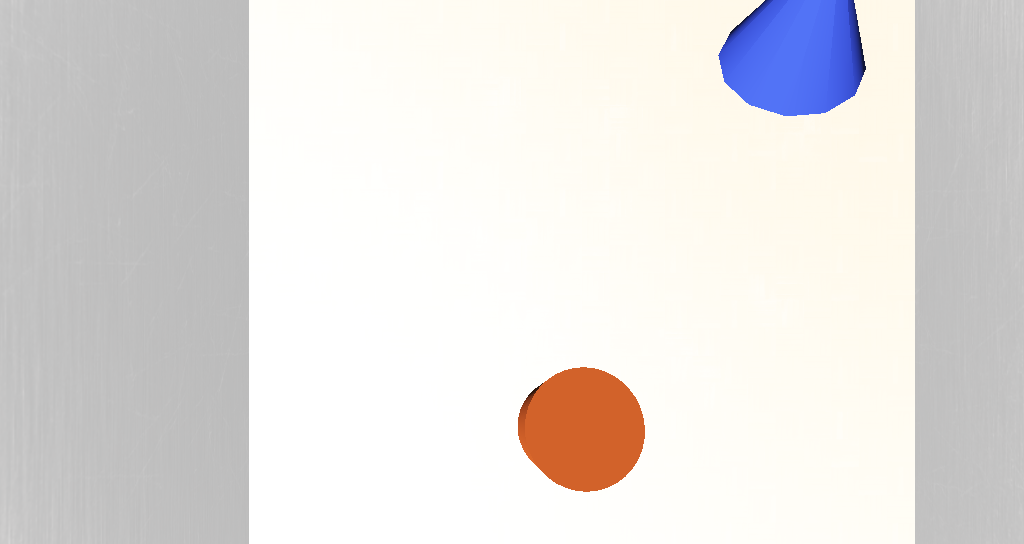cone: (472, 291, 525, 339)
cylinder: (552, 148, 647, 224)
sphere: (536, 146, 610, 198)
